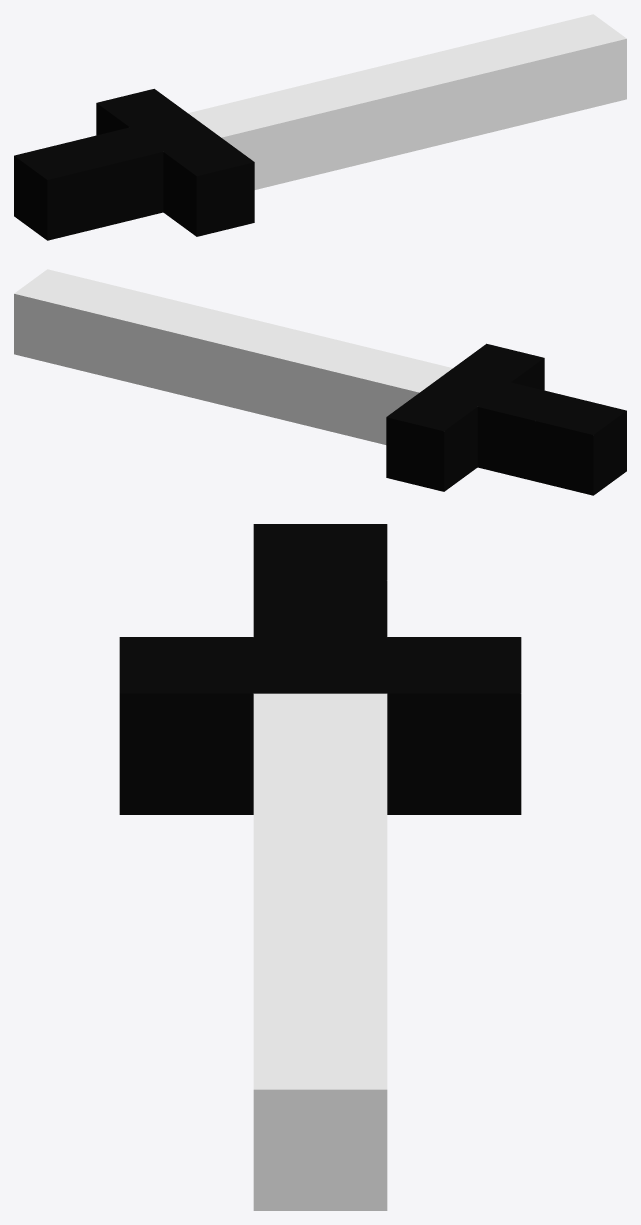
Rendered from Voxel_Weapon.gltf.
3 renders of one model, top to bottom at view 1: azimuth 30°, elevation 25°; view 2: azimuth 150°, elevation 25°; view 3: azimuth 270°, elevation 25°, orthographic. The views are drawn at different scales.
Visible parts, largest first — view 1: 立方体; view 2: 立方体; view 3: 立方体.
Boxes of the visible parts, left/top/right/bottom form: 立方体: left=14, top=14, right=626, bottom=240; 立方体: left=14, top=269, right=626, bottom=495; 立方体: left=119, top=524, right=521, bottom=1210.
Bounding box in the file's own units: 2 × 0.2 × 0.6.
1 material, 1 textured.
